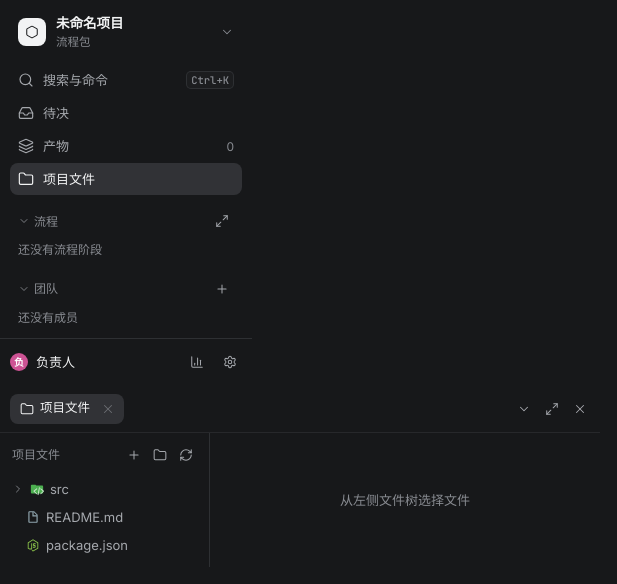
Test: 右栏项目页文件树（票 11） › 点文件在画布打开编辑器页签，文件树留在编辑器左侧
The image size is (617, 584).
Click the list item "README.md" at (105, 517), box top-left (6, 503), bottom-right (204, 531)
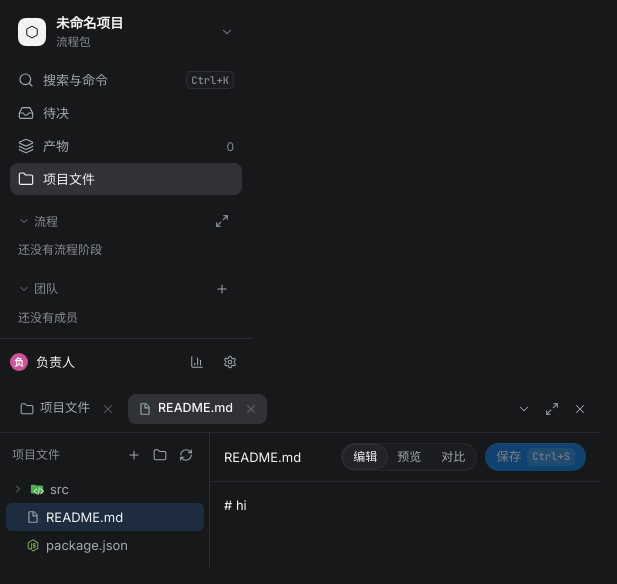
Expected: the element with test id "file-tree" is shown, top-left (0, 433), bottom-right (210, 567)
Result: the element with test id "file-editor" is shown at top-left (210, 433), bottom-right (600, 567)
